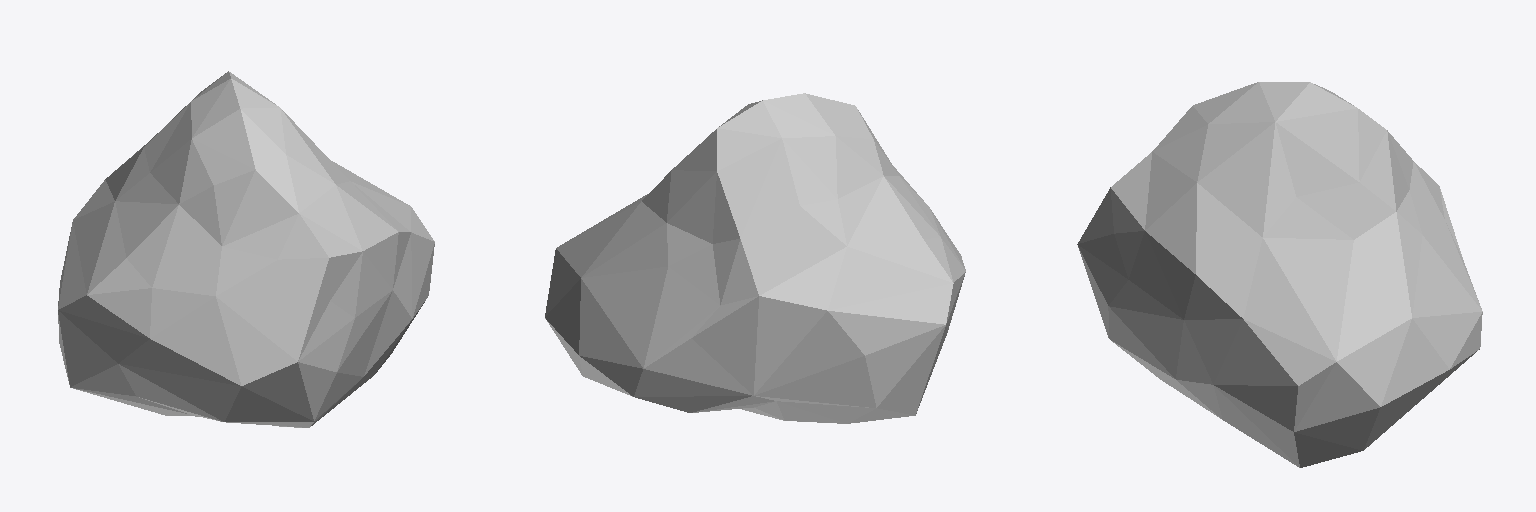
The model's file is rock_0.obj.
3 renders of one model, left to right at view 1: azimuth 30°, elevation 25°; view 2: azimuth 150°, elevation 25°; view 3: azimuth 270°, elevation 25°, orthographic.
Parts seen in each view (by area): view 1: Cube; view 2: Cube; view 3: Cube.
Part boxes in pixels (bbox=[...]): Cube: bbox=[58, 71, 434, 427]; Cube: bbox=[545, 93, 965, 423]; Cube: bbox=[1077, 82, 1482, 467].
Bounding box in the file's own units: 1.19 × 1.02 × 1.11.